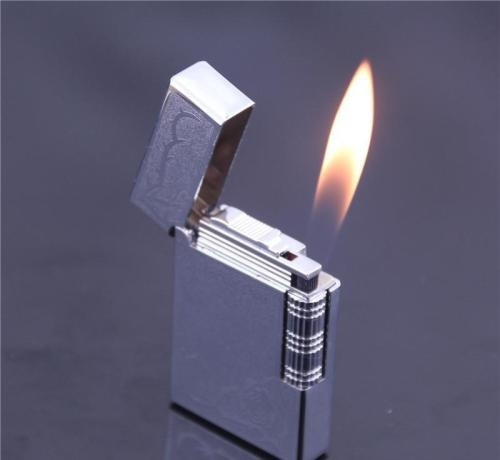fire: (312, 52, 377, 235)
